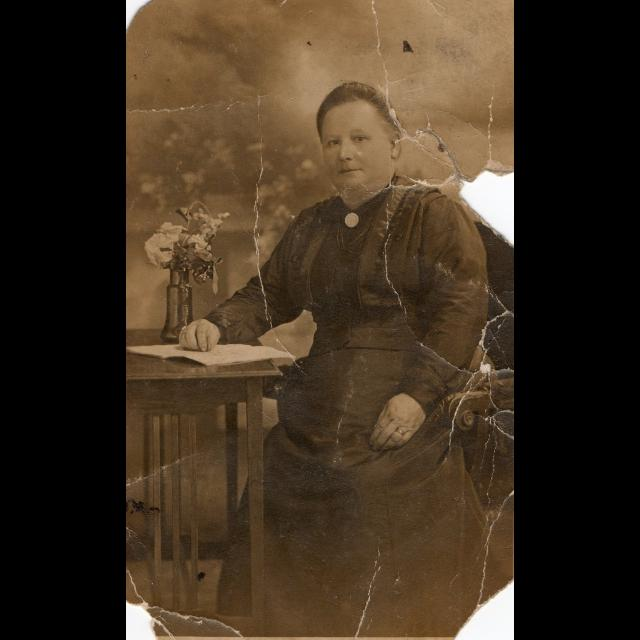Flower: (178, 207, 230, 261), (138, 220, 188, 268)
